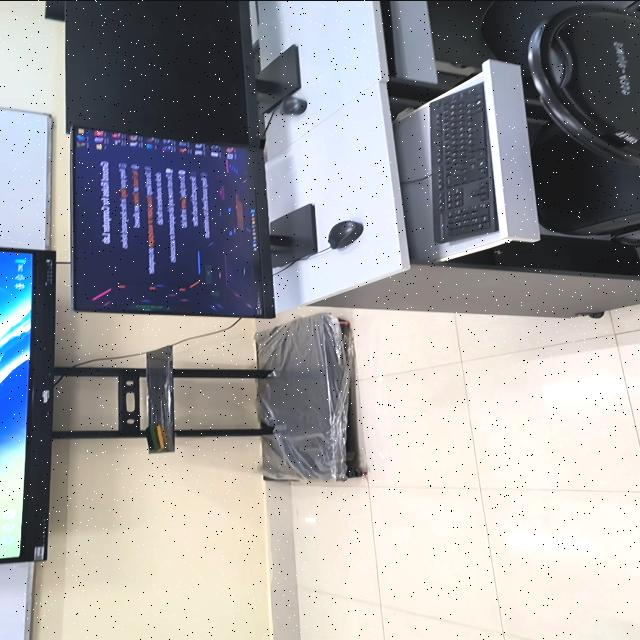Chair: (529, 4, 640, 229)
Digital board: (0, 247, 56, 563)
Keyboard: (431, 83, 497, 242)
Monitor: (72, 126, 274, 316), (65, 0, 260, 148), (158, 55, 170, 62)
Mouse: (528, 5, 640, 233), (328, 219, 363, 248), (274, 95, 306, 114)
